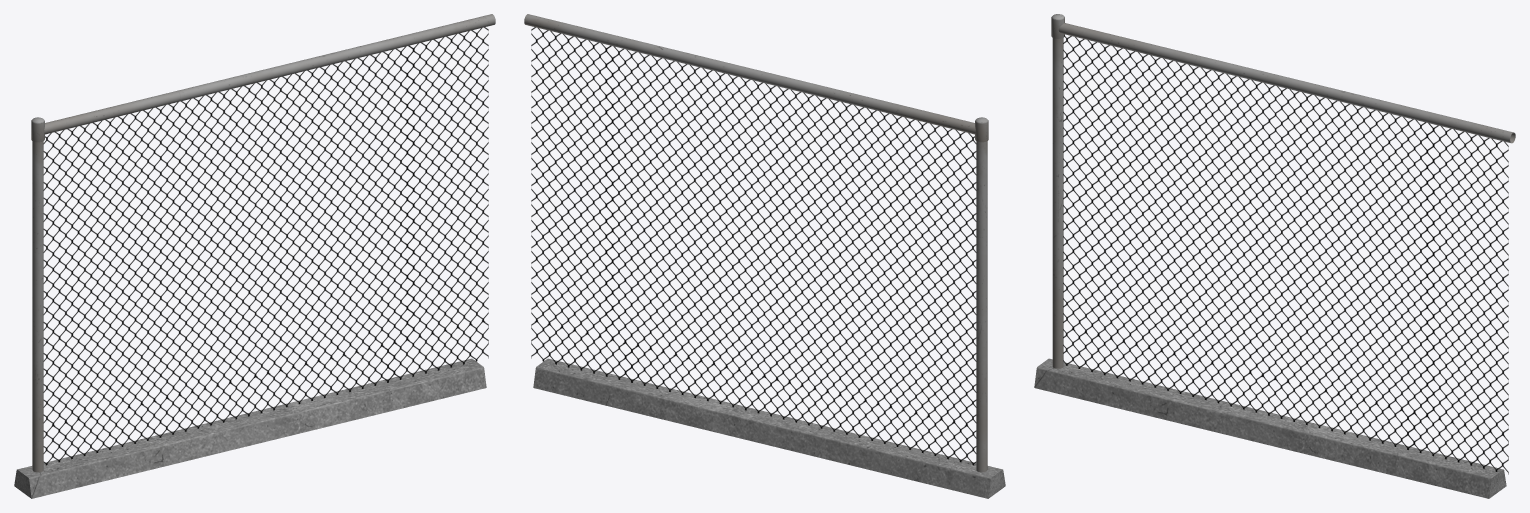
The model's file is fence.glb.
3 views of the same model, side by side, from view 1: azimuth 30°, elevation 25°; view 2: azimuth 150°, elevation 25°; view 3: azimuth 330°, elevation 25° (orthographic).
Visible parts, largest first — view 1: Curb_Straight; view 2: Curb_Straight; view 3: Curb_Straight.
Boxes of the visible parts, <box> form: Curb_Straight: <box>14,14,495,498</box>; Curb_Straight: <box>524,14,1005,498</box>; Curb_Straight: <box>1034,14,1515,498</box>.
Size of the model in its own units: 3.1 by 2.33 by 0.2.
Materials: 2 (2 with a texture image).
